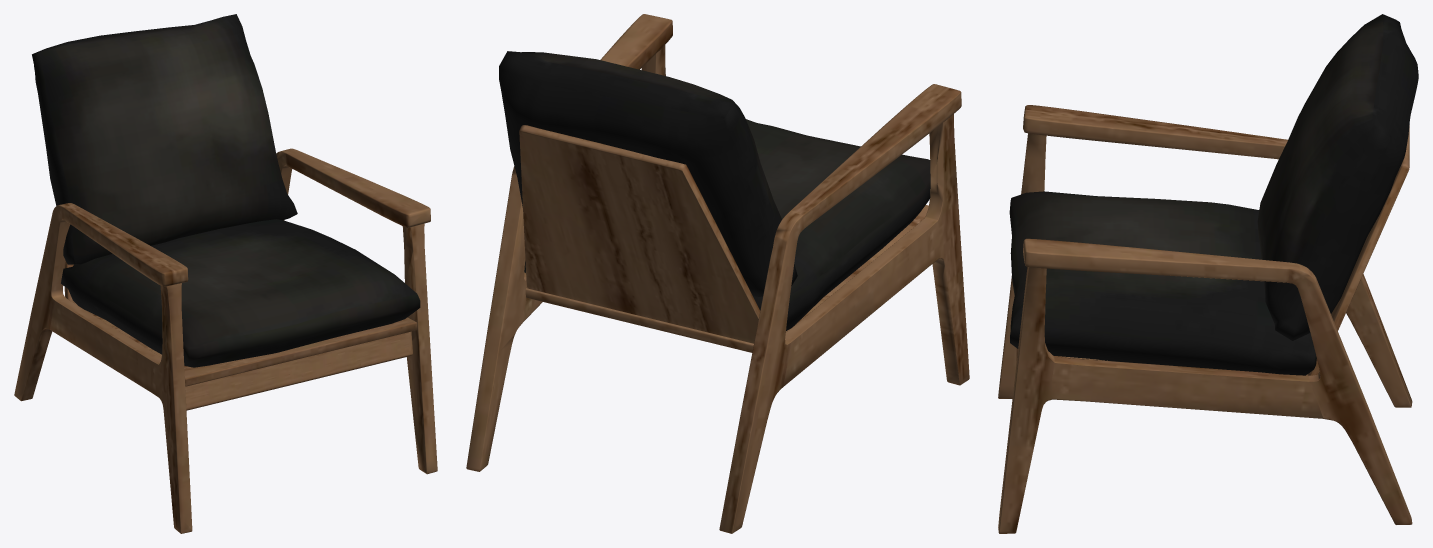
File: armchair.glb
The picture shows the model from 3 angles, left to right: view 1: azimuth 30°, elevation 25°; view 2: azimuth 150°, elevation 25°; view 3: azimuth 270°, elevation 25°; orthographic projection. The views are drawn at different scales.
Parts seen in each view (by area): view 1: modern_arm_chair_01; view 2: modern_arm_chair_01; view 3: modern_arm_chair_01.
Boxes of the visible parts, bbox=[...] form: modern_arm_chair_01: bbox=[14, 14, 437, 533]; modern_arm_chair_01: bbox=[466, 14, 969, 533]; modern_arm_chair_01: bbox=[998, 14, 1418, 533].
Bounding box in the file's own units: 0.8203 × 1.02 × 0.9866.
2 materials, 2 textured.
